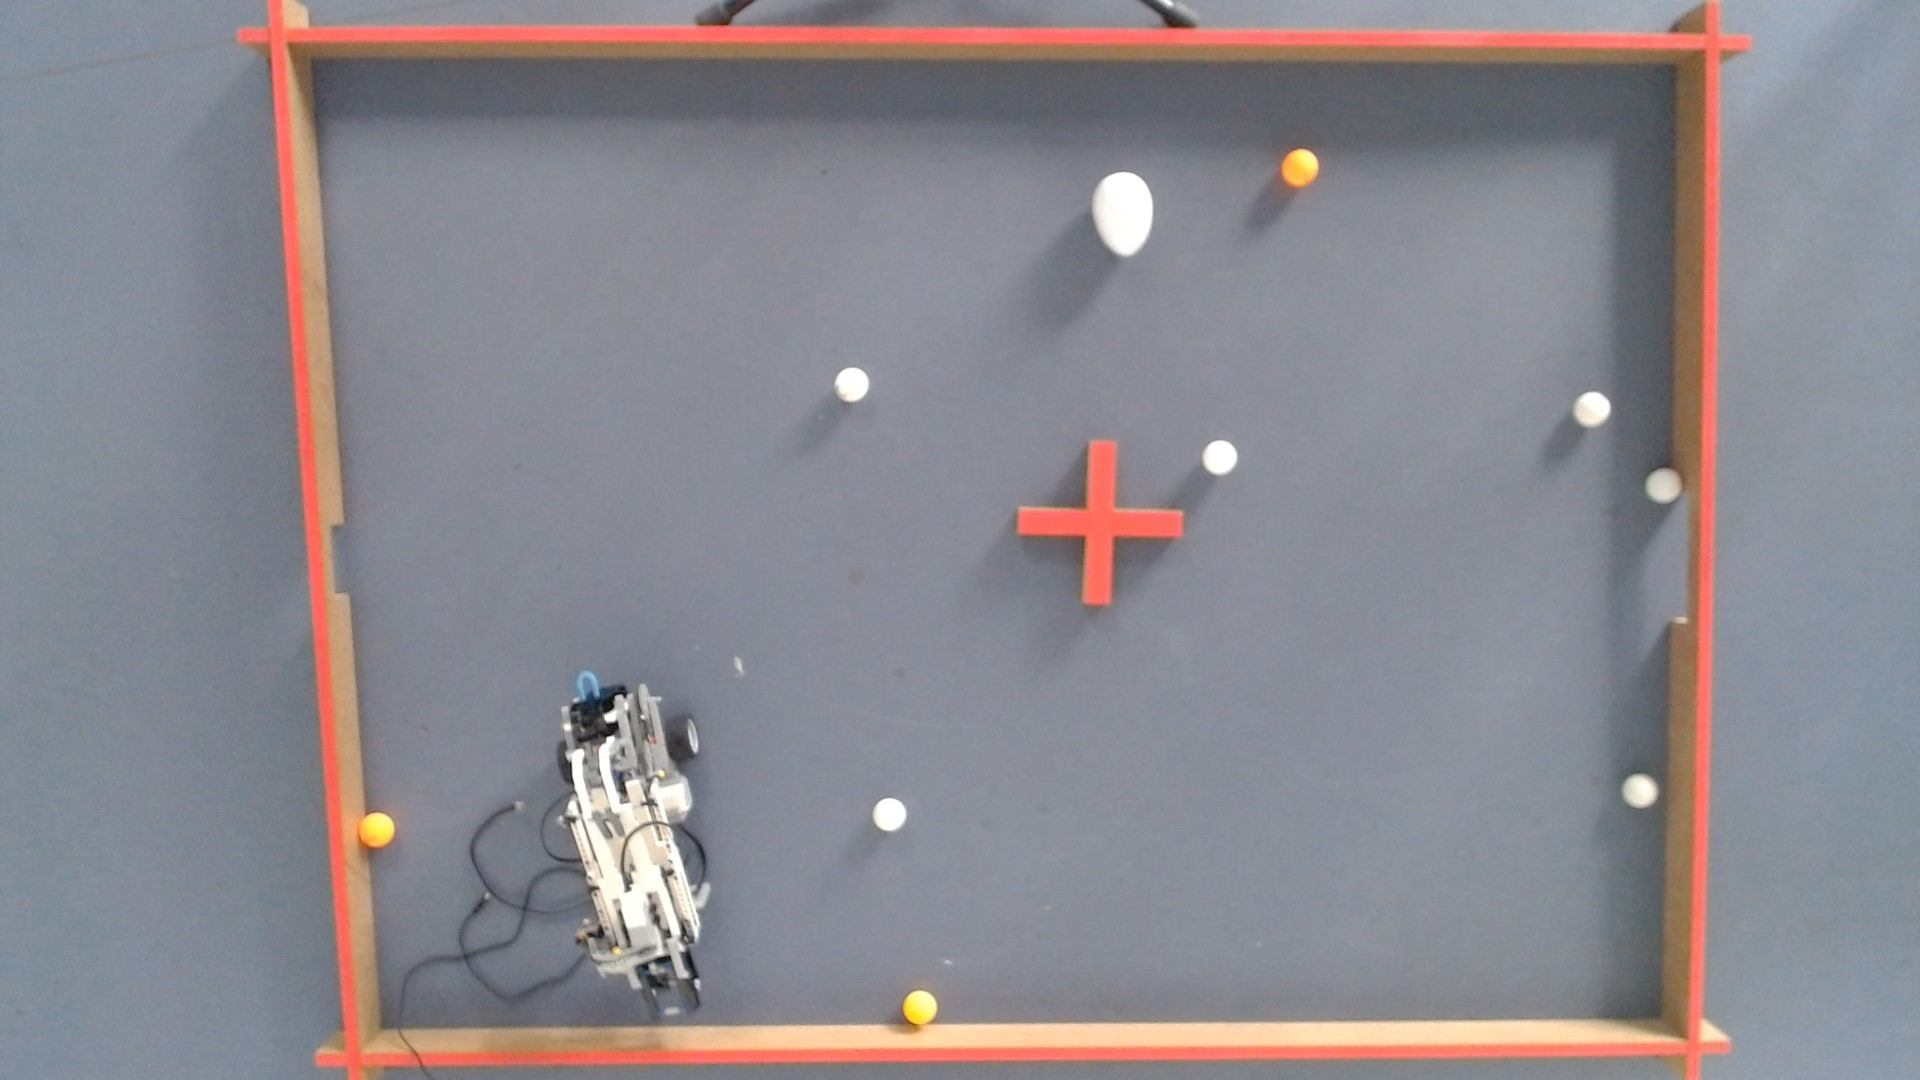Opingpong: (1274, 137, 1329, 196), (348, 802, 406, 855), (891, 985, 952, 1035)
Wpingpong: (1611, 761, 1669, 824), (1634, 459, 1695, 514), (819, 355, 880, 406), (1193, 430, 1247, 483), (866, 790, 913, 841), (1567, 384, 1611, 435)
arena: (223, 0, 400, 1076), (222, 7, 1771, 94), (1644, 3, 1737, 1076), (284, 1004, 1776, 1069)
car: (521, 646, 757, 1021)
cross: (992, 435, 1197, 620)
egg: (1081, 166, 1163, 262)
